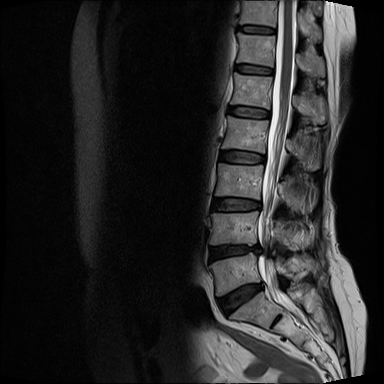Lumbar Disc Bulge (LDB): (208, 279, 271, 322), (197, 242, 268, 267), (207, 194, 266, 217)
Normal IVD: (225, 54, 279, 81), (212, 143, 270, 168), (220, 99, 274, 124), (232, 21, 280, 37)
Spinal Stenosis (SS): (248, 233, 267, 262), (252, 273, 270, 299), (254, 192, 269, 215)
